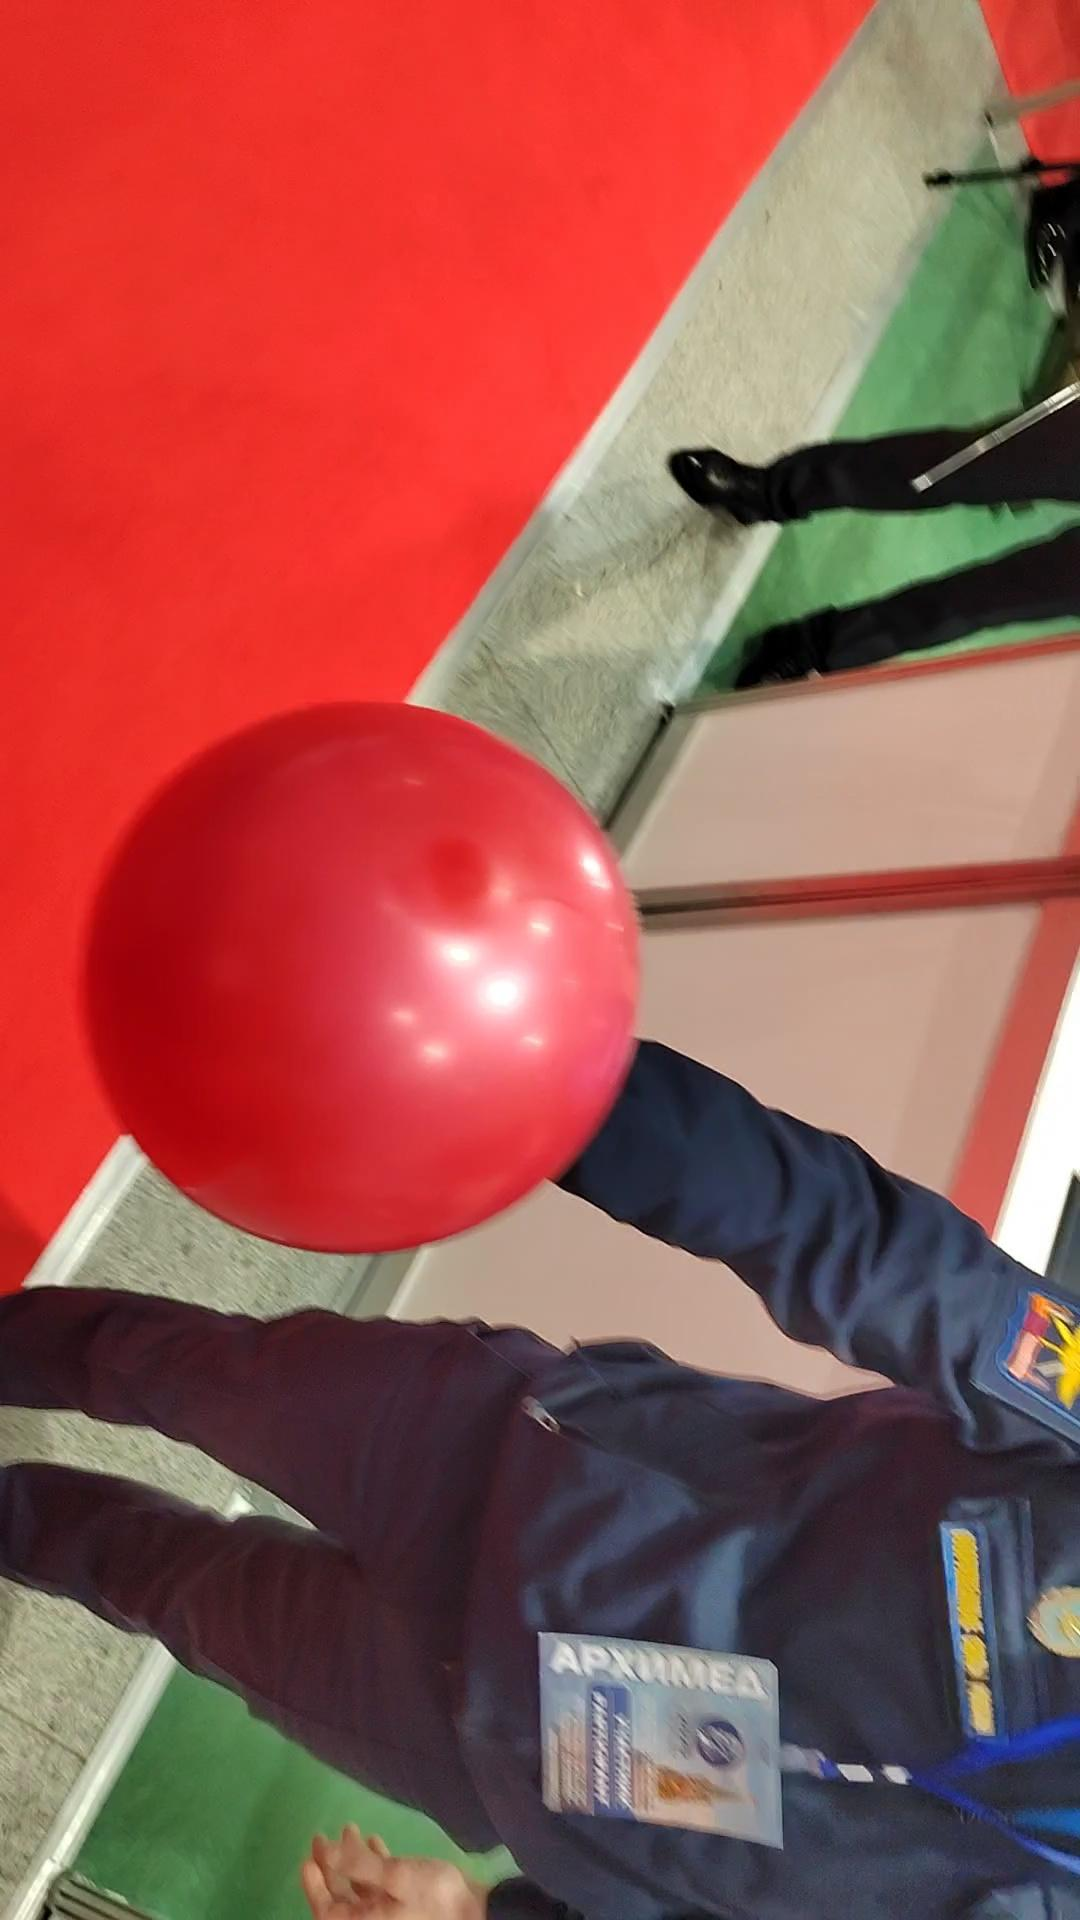red: (80, 699, 638, 1257)
